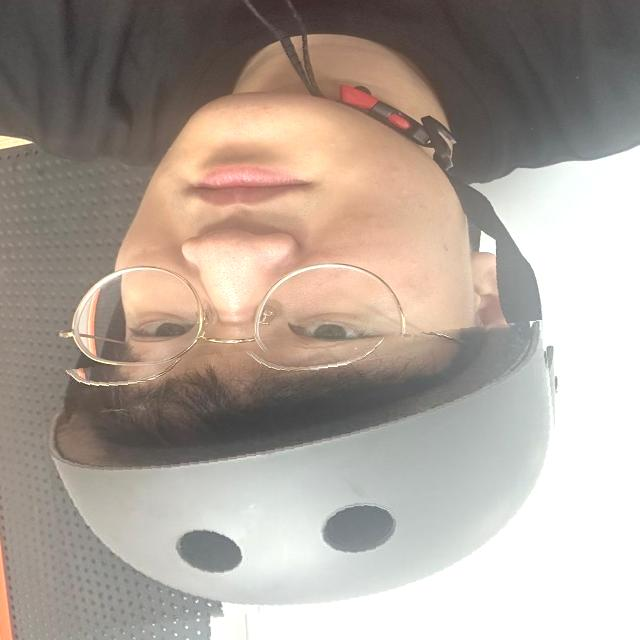helmet: (45, 332, 564, 620)
